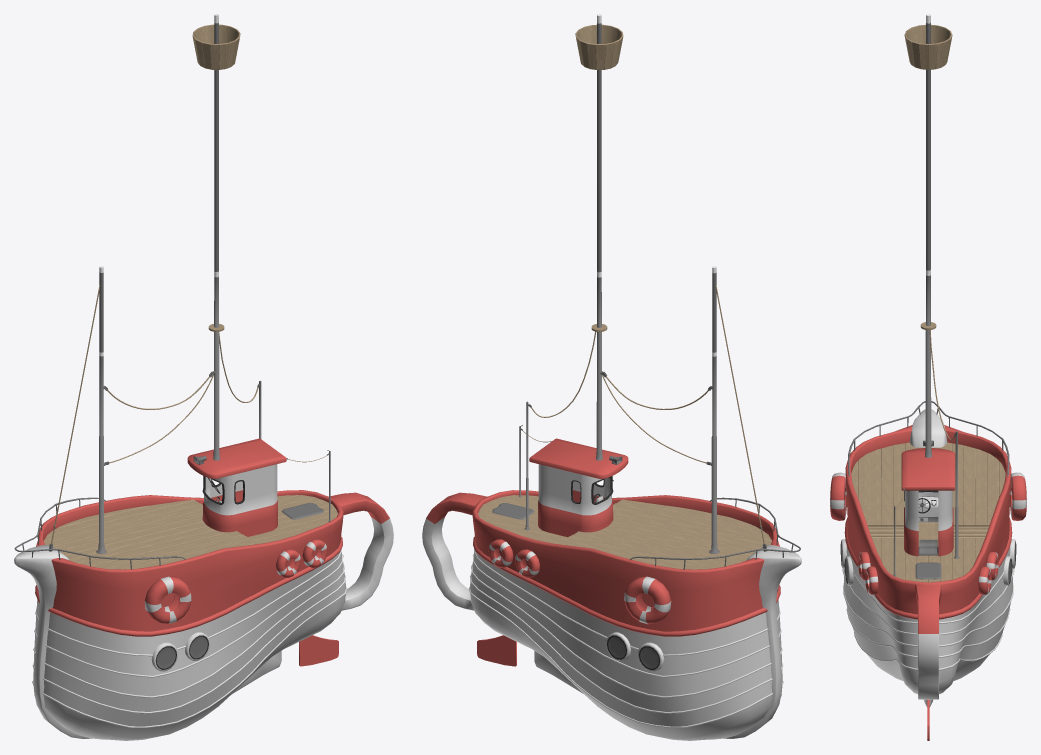
The model's file is Ship.glb.
3 views of the same model, side by side, from view 1: azimuth 30°, elevation 25°; view 2: azimuth 150°, elevation 25°; view 3: azimuth 270°, elevation 25° (orthographic).
Visible parts, largest first — view 1: Ship.001; view 2: Ship.001; view 3: Ship.001.
Boxes of the visible parts, box(x1,y1,x2,y2) form: Ship.001: box(14, 14, 393, 740); Ship.001: box(422, 14, 801, 740); Ship.001: box(830, 14, 1026, 740).
Size of what is drawn, in the model's own units: 1778 by 3165 by 815.
6 materials, 1 textured.
